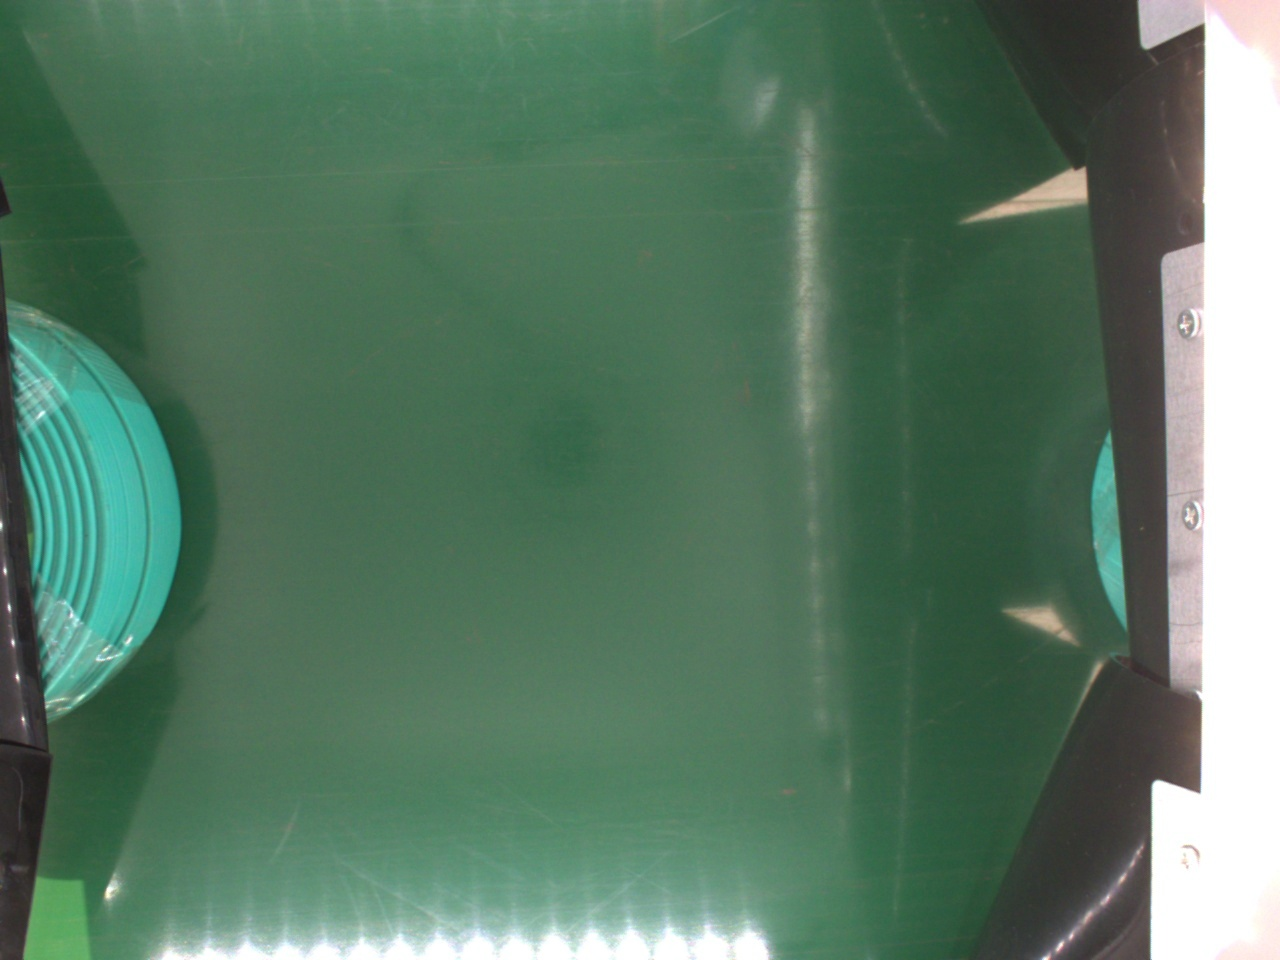green: (11, 298, 193, 711)
